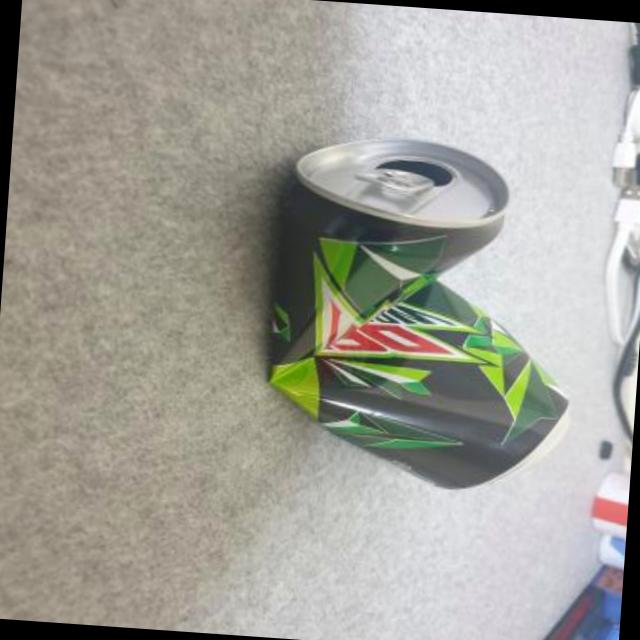metal: (272, 141, 569, 490)
